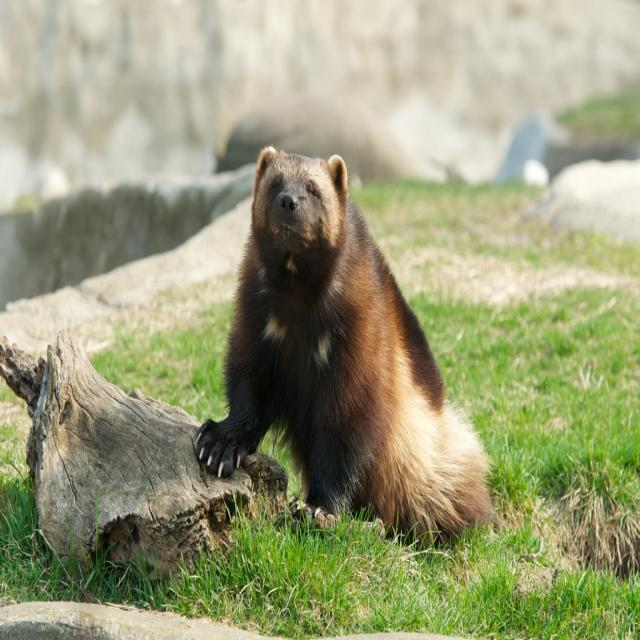Bear: (194, 146, 499, 542)
